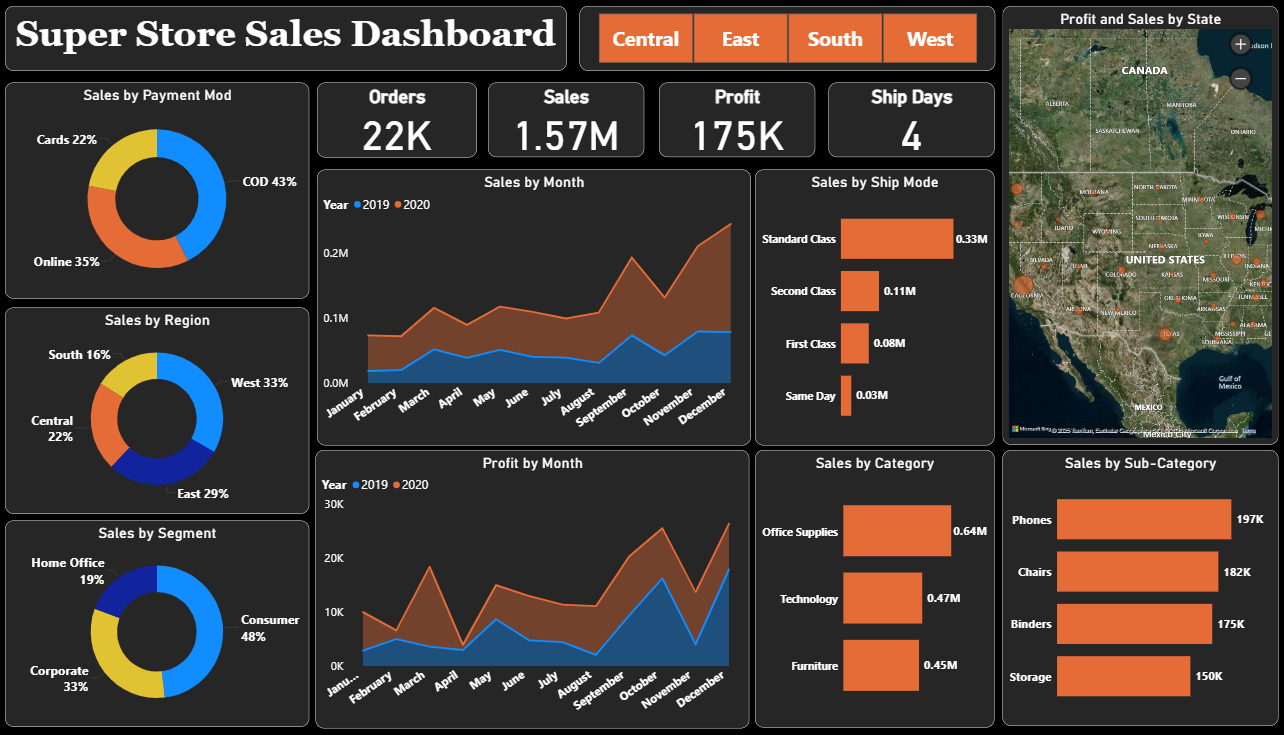

The page's visual inventory and layout, read from the dashboard file:
{"tool":"powerbi","page":{"name":"Dashboard","canvas":[2100,1200],"ordinal":0},"visuals":[{"type":"clusteredBarChart","title":"Sales by Category","fields":{"Category":["SuperStore_Sales_Dataset.Category"],"Y":["Sum(SuperStore_Sales_Dataset.Sales)"]},"box":[1229.7,732.4,389.2,451.4],"z":0},{"type":"clusteredBarChart","title":"Sales by Sub-Category","fields":{"Y":["Sum(SuperStore_Sales_Dataset.Sales)"],"Category":["SuperStore_Sales_Dataset.Sub-Category"]},"box":[1632.4,732.4,448.6,448.6],"z":1000},{"type":"clusteredBarChart","title":"Sales by Ship Mode","fields":{"Y":["Sum(SuperStore_Sales_Dataset.Sales)"],"Category":["SuperStore_Sales_Dataset.Ship Mode"]},"box":[1229.7,275.7,389.2,448.6],"z":2000},{"type":"stackedAreaChart","title":"Sales by Month","fields":{"Y":["Sum(SuperStore_Sales_Dataset.Sales)"],"Category":["SuperStore_Sales_Dataset.Order Date.Variation.Date Hierarchy.Month","SuperStore_Sales_Dataset.Order Date.Variation.Date Hierarchy.Day"],"Series":["SuperStore_Sales_Dataset.Order Date.Variation.Date Hierarchy.Year"]},"box":[516.2,275.7,705.4,448.6],"z":3000},{"type":"stackedAreaChart","title":"Profit by Month","fields":{"Category":["SuperStore_Sales_Dataset.Order Date.Variation.Date Hierarchy.Month","SuperStore_Sales_Dataset.Order Date.Variation.Date Hierarchy.Day"],"Series":["SuperStore_Sales_Dataset.Order Date.Variation.Date Hierarchy.Year"],"Y":["Sum(SuperStore_Sales_Dataset.Profit)"]},"box":[515.8,731.6,705.3,452.6],"z":4000},{"type":"map","title":"Profit and Sales by State","fields":{"Category":["SuperStore_Sales_Dataset.State"],"Size":["Sum(SuperStore_Sales_Dataset.Sales)"]},"box":[1632.4,10.8,448.6,713.5],"z":5000},{"type":"donutChart","title":"Sales by Region","fields":{"Y":["Sum(SuperStore_Sales_Dataset.Sales)"],"Category":["SuperStore_Sales_Dataset.Region"]},"box":[10.8,500,494.6,335.1],"z":6000},{"type":"donutChart","title":"Sales by Segment","fields":{"Category":["SuperStore_Sales_Dataset.Segment"],"Y":["Sum(SuperStore_Sales_Dataset.Sales)"]},"box":[10.8,845.9,494.6,335.1],"z":7000},{"type":"donutChart","title":"Sales by Payment Mod","fields":{"Y":["Sum(SuperStore_Sales_Dataset.Sales)"],"Category":["SuperStore_Sales_Dataset.Payment Mode"]},"box":[10.8,135.1,494.6,351.4],"z":8000},{"type":"slicer","fields":{"Values":["SuperStore_Sales_Dataset.Region"]},"box":[943.2,10.8,675.7,105.4],"z":9000},{"type":"textbox","box":[10.8,10.8,913.5,105.4],"z":10000},{"type":"card","title":"Orders","fields":{"Values":["Sum(SuperStore_Sales_Dataset.Quantity)"]},"box":[516.9,135.2,259.8,121.9],"z":11000},{"type":"card","title":"Sales","fields":{"Values":["Sum(SuperStore_Sales_Dataset.Sales)"]},"box":[794.6,135.1,254.1,121.6],"z":12000},{"type":"card","title":"Profit","fields":{"Values":["Sum(SuperStore_Sales_Dataset.Profit)"]},"box":[1073,135.1,254.1,121.6],"z":13000},{"type":"card","title":"Ship Days","fields":{"Values":["Avg(SuperStore_Sales_Dataset.AvgDelivery)"]},"box":[1348.6,135.1,270.3,121.6],"z":14000}]}

Visuals, with their boxes in screenshot pixels (x1, y1, x2, y2), scaled from the page's 2100x1200 canvas onto the 1284x735 screenshot:
"Sales by Category" clusteredBarChart: (752,449,990,725)
"Sales by Sub-Category" clusteredBarChart: (998,449,1272,723)
"Sales by Ship Mode" clusteredBarChart: (752,169,990,444)
"Sales by Month" stackedAreaChart: (316,169,747,444)
"Profit by Month" stackedAreaChart: (315,448,747,725)
"Profit and Sales by State" map: (998,7,1272,444)
"Sales by Region" donutChart: (7,306,309,511)
"Sales by Segment" donutChart: (7,518,309,723)
"Sales by Payment Mod" donutChart: (7,83,309,298)
slicer - SuperStore_Sales_Dataset.Region: (577,7,990,71)
textbox: (7,7,565,71)
"Orders" card: (316,83,475,157)
"Sales" card: (486,83,641,157)
"Profit" card: (656,83,811,157)
"Ship Days" card: (825,83,990,157)
